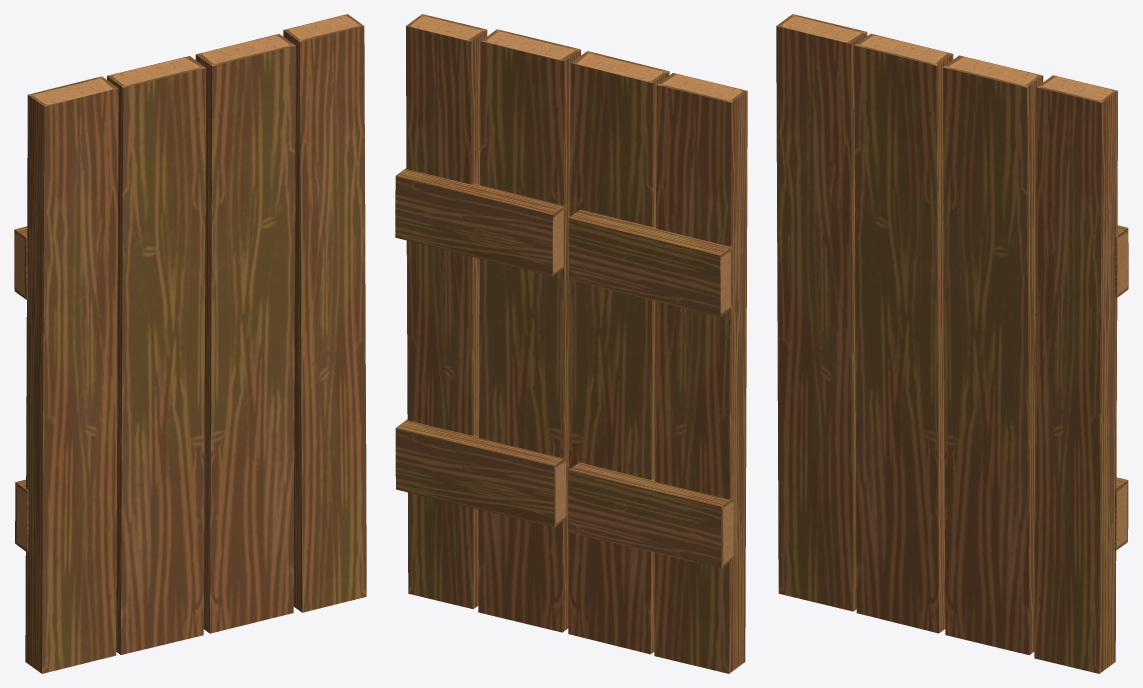
File: WindowShutters_Thin_Flat_Closed.gltf
The picture shows the model from 3 angles, left to right: view 1: azimuth 30°, elevation 25°; view 2: azimuth 150°, elevation 25°; view 3: azimuth 330°, elevation 25°; orthographic projection.
Visible parts, largest first — view 1: WindowShutters_Thin_Flat_Closed; view 2: WindowShutters_Thin_Flat_Closed; view 3: WindowShutters_Thin_Flat_Closed.
Boxes of the visible parts, x1,y1,x2,y2 form: WindowShutters_Thin_Flat_Closed: (14,14,366,673); WindowShutters_Thin_Flat_Closed: (395,14,747,673); WindowShutters_Thin_Flat_Closed: (776,14,1128,673).
Size of the model in its own units: 0.8518 by 1.42 by 0.1358.
1 material, 1 textured.
